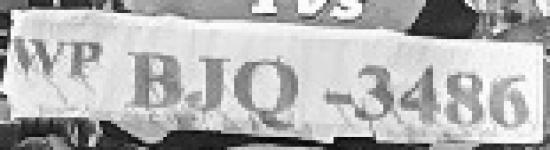-: (321, 87, 356, 113)
3: (354, 56, 396, 125)
4: (397, 55, 445, 128)
6: (486, 69, 534, 136)
8: (445, 63, 487, 129)
B: (120, 44, 186, 113)
J: (186, 49, 231, 123)
P: (67, 38, 109, 84)
Q: (231, 46, 315, 134)
W: (12, 32, 69, 77)
